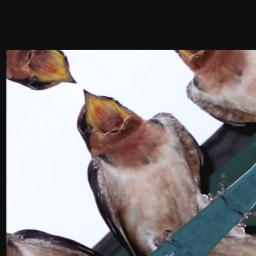Swallow: (14, 60, 249, 256)
